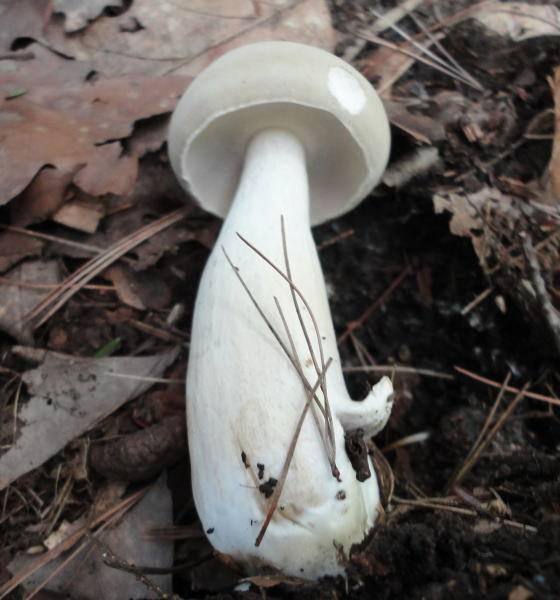edible_mushroom: (165, 38, 396, 584)
